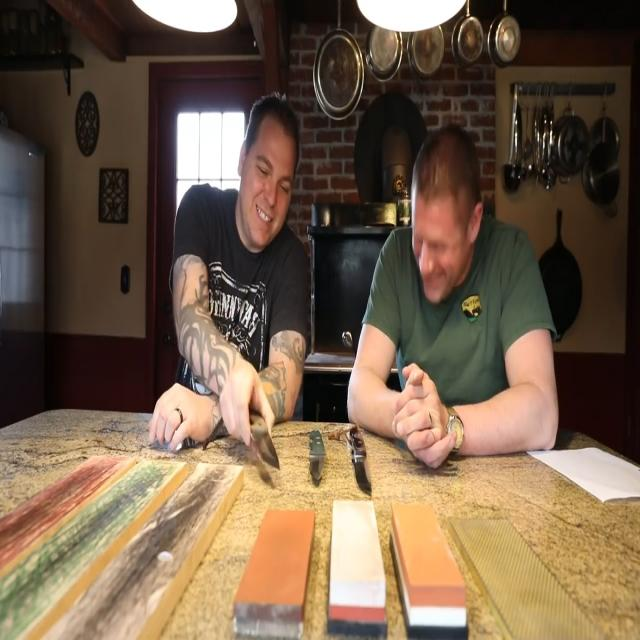knife: (343, 420, 379, 502), (251, 412, 283, 475), (307, 420, 327, 494)
